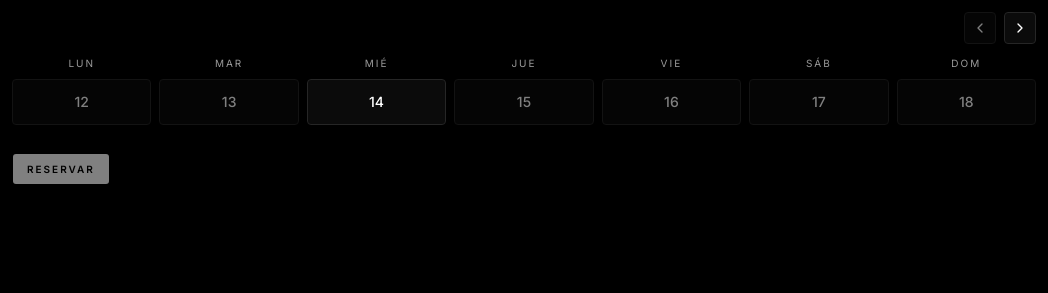
Test: FollowupBooking › books the selected slot and clears the selection once confirmed
The width and height of the screenshot is (1048, 293).
Click the button "14" at (376, 102), box x1=307 y1=79 x2=446 y2=125
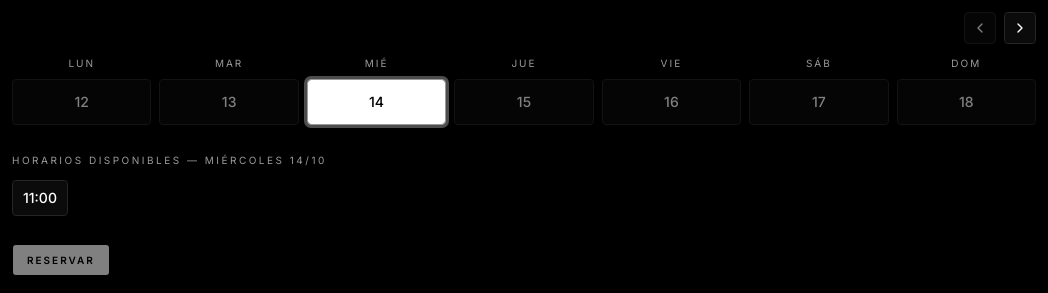
Click the button "11:00" at (40, 198), box x1=12 y1=180 x2=68 y2=216
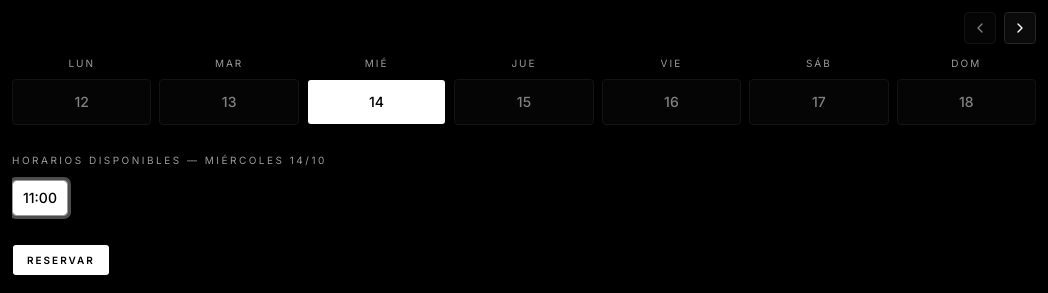
Result: the button "11:00" is pressed at x1=12 y1=180 x2=68 y2=216
Click the button "Reservar" at (61, 260), box x1=12 y1=244 x2=110 y2=276
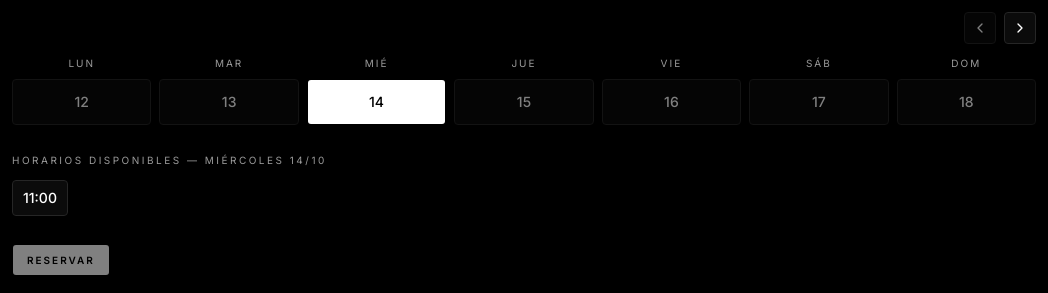
Result: the button "Reservar" is disabled at x1=12 y1=244 x2=110 y2=276
